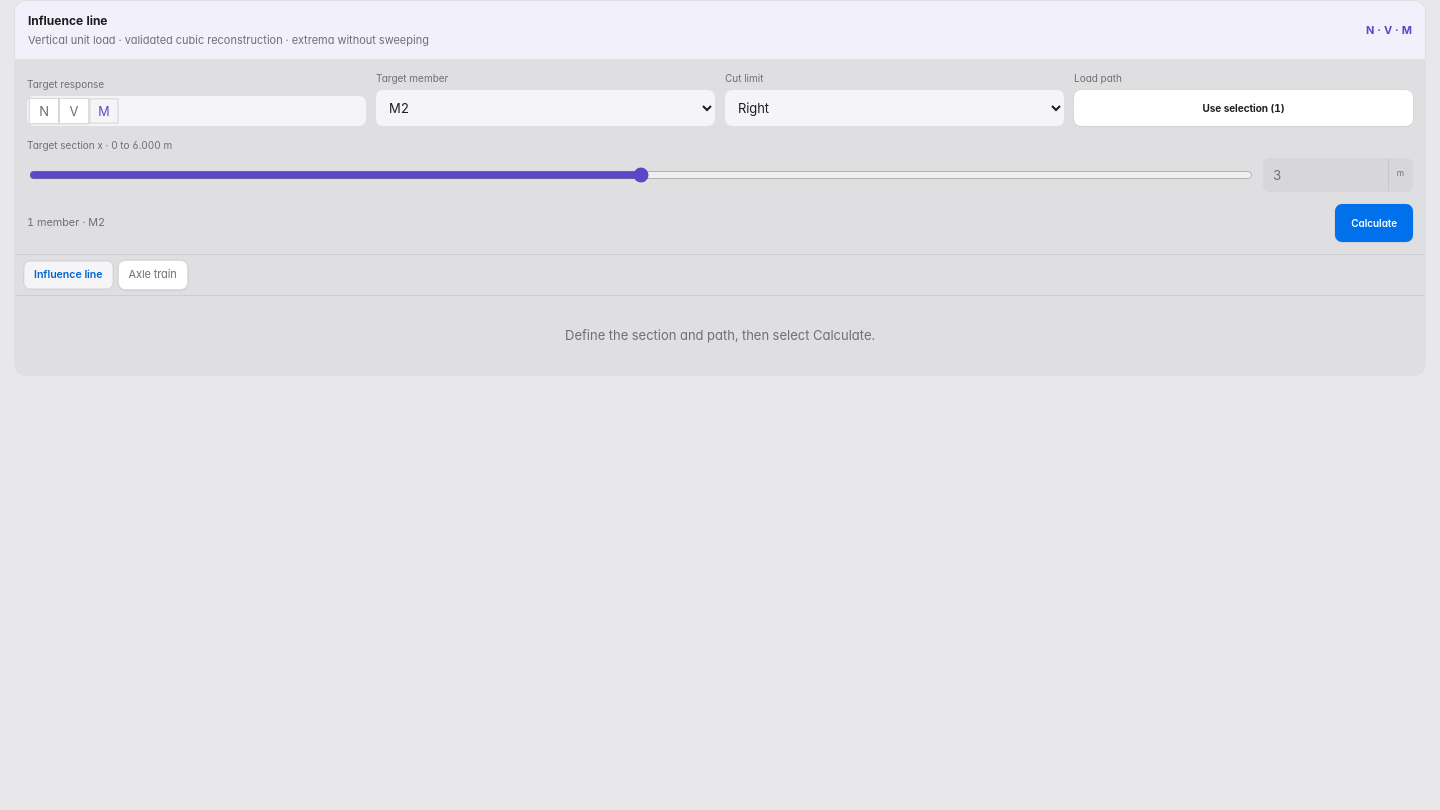
Scenario: Influence line presentation › announces local validation errors in English without changing domain validation
Click the tab "Axle train" at {"x": 153, "y": 275}, box [118,260,188,290]
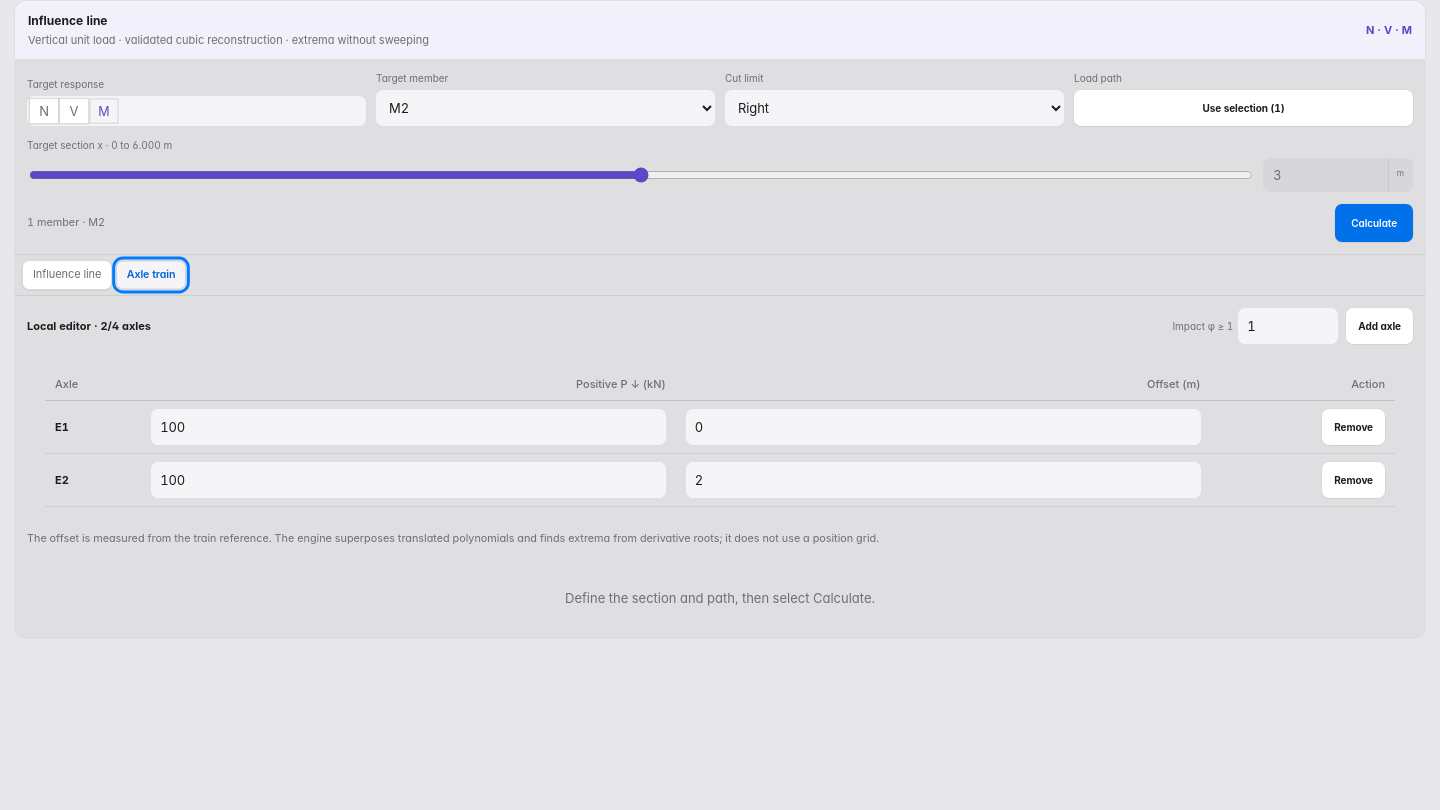
Replace the text in the number field named "Impact factor" with "0.9" at {"x": 1288, "y": 326}, box [1238,308,1338,344]
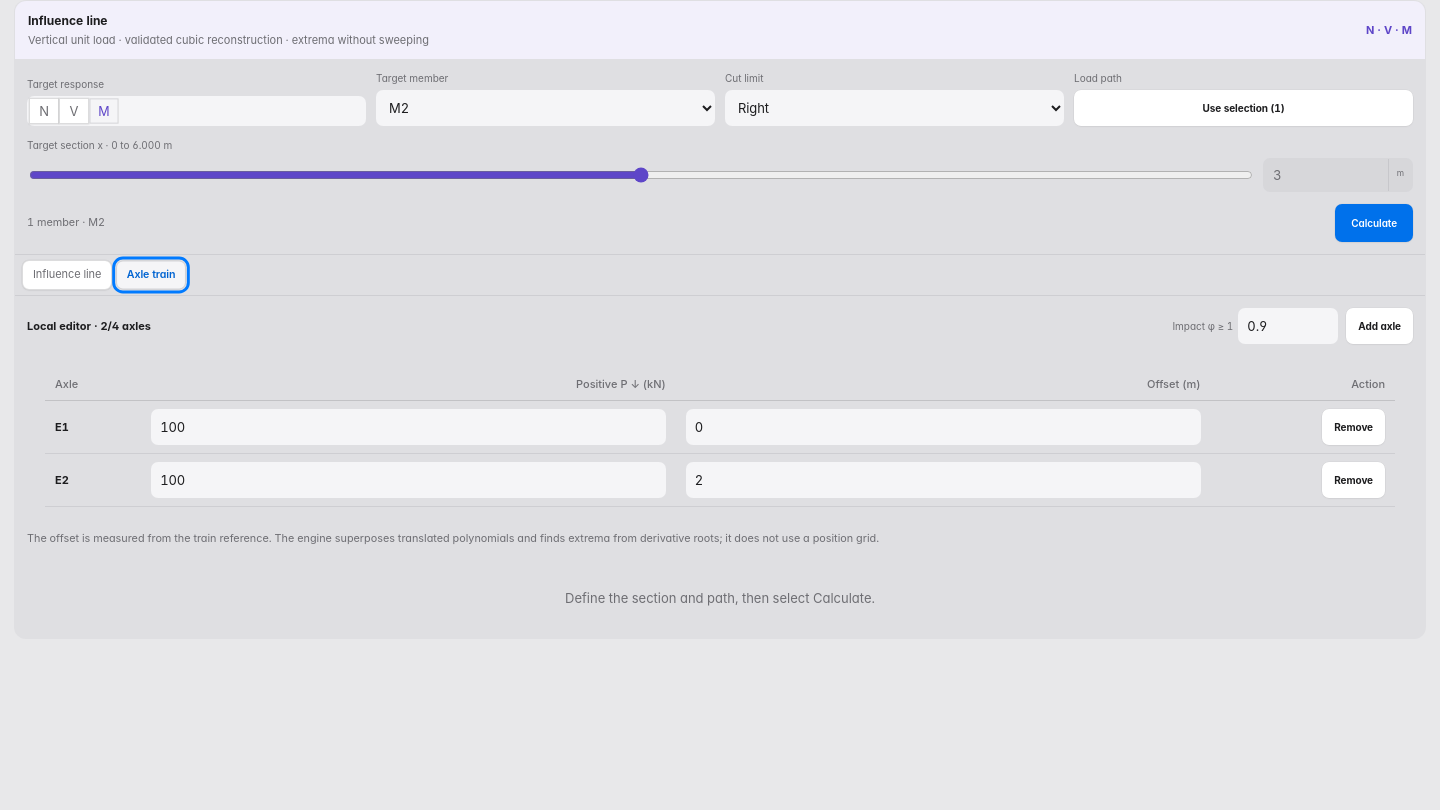
Click the button "Calculate" at {"x": 1374, "y": 223}, box [1335,204,1413,242]
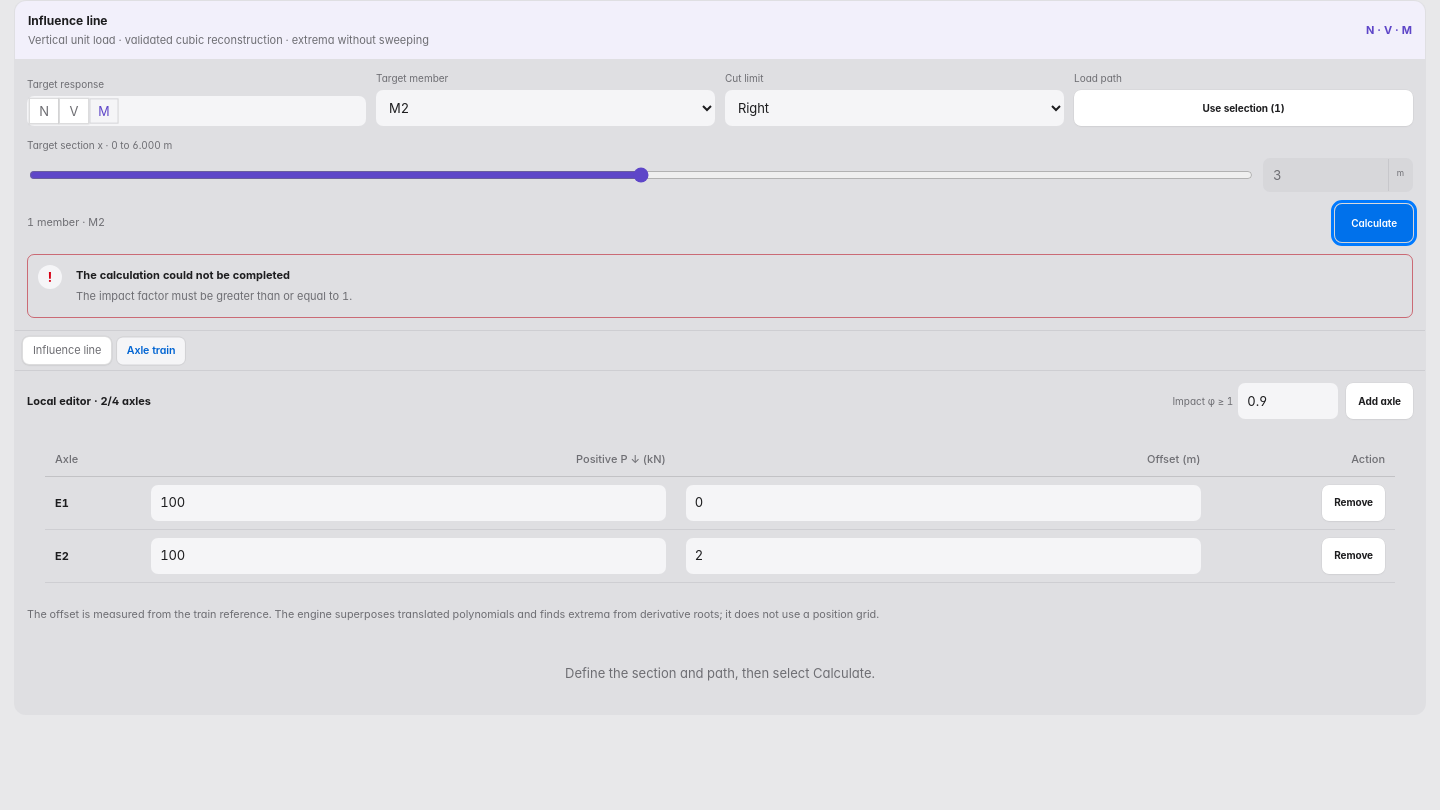
Expected: the message shows "The impact factor must be greater than or equal to 1.", [76,288,352,302]
Expected: the text "The calculation could not be completed" is shown, [76,268,290,282]
